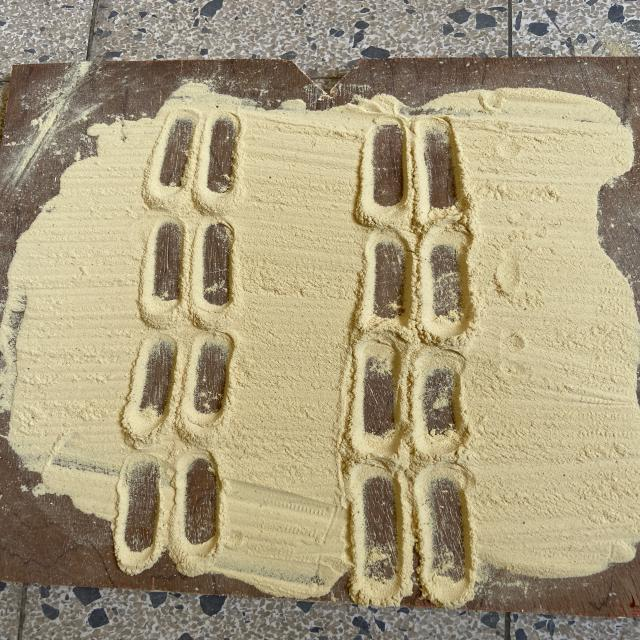double: (346, 464, 484, 606), (342, 338, 472, 460), (111, 449, 227, 576), (114, 330, 240, 442), (355, 226, 482, 332), (354, 108, 467, 224), (142, 108, 252, 214), (138, 216, 239, 328)
